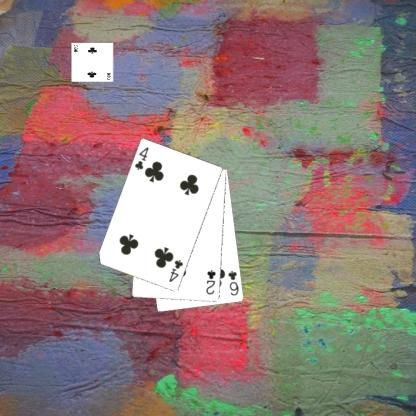2C: (204, 267, 217, 296)
4C: (132, 144, 150, 172), (166, 257, 184, 284)
6C: (226, 268, 240, 298)
